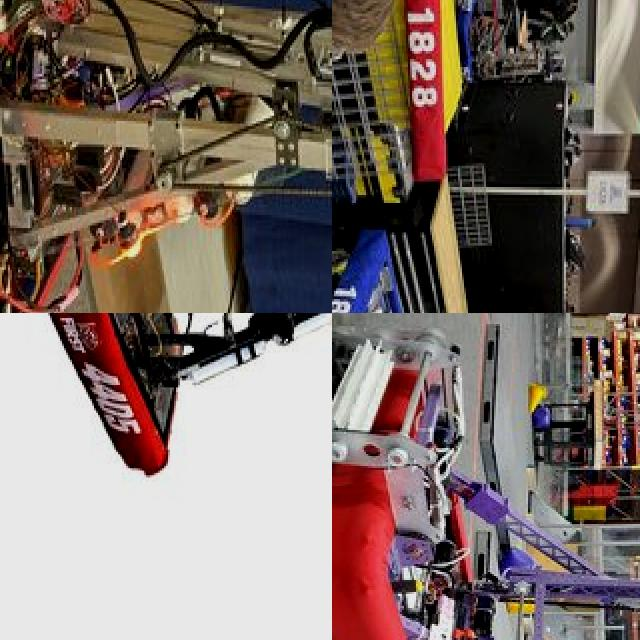FRC-Robots: (0, 0, 332, 313), (332, 313, 640, 640), (32, 313, 332, 640), (332, 218, 640, 313)
